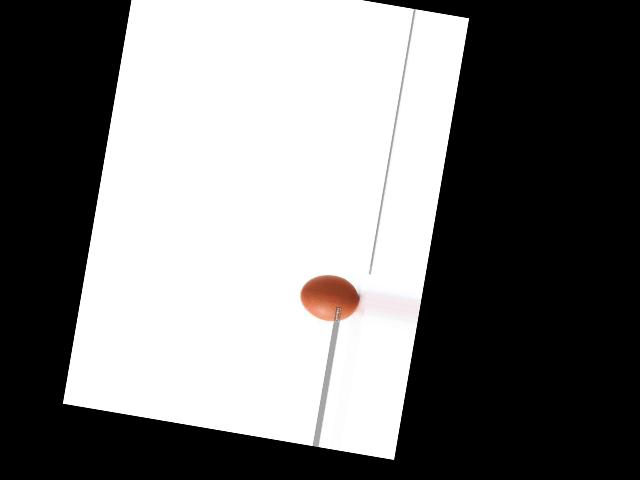egg: (297, 271, 361, 325)
